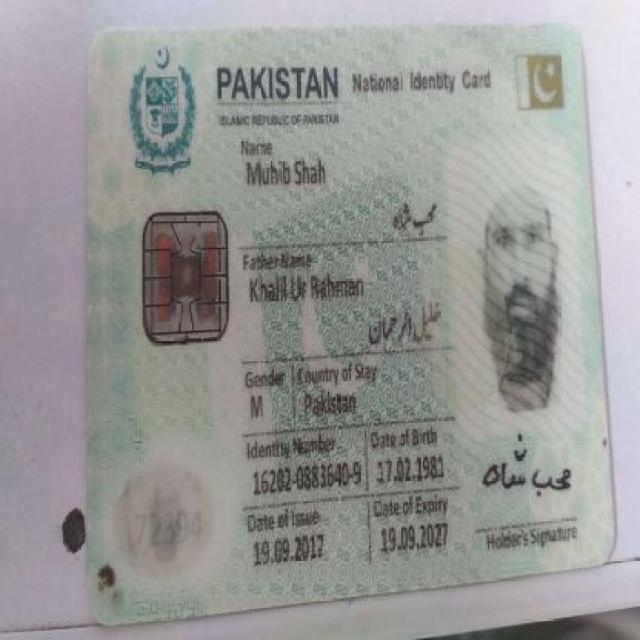Front: (81, 29, 624, 596)
